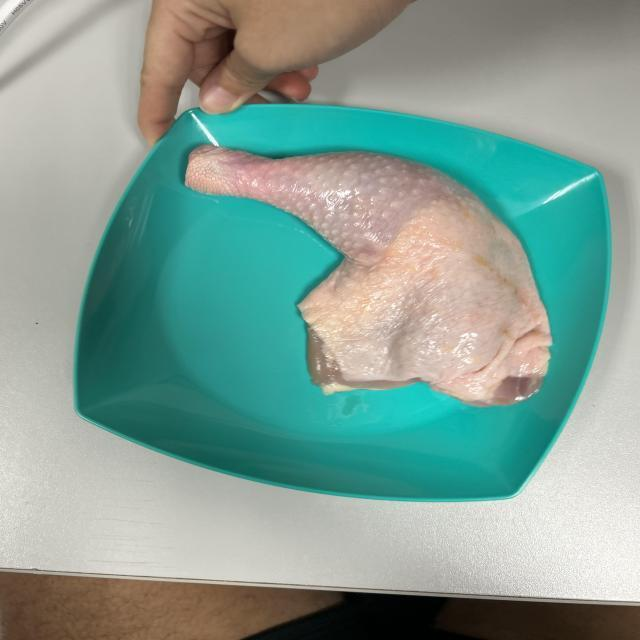quater: (176, 144, 552, 406)
